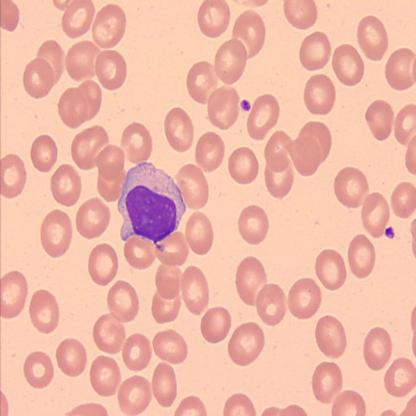Atypical lymphocyte: (116, 163, 186, 244)
